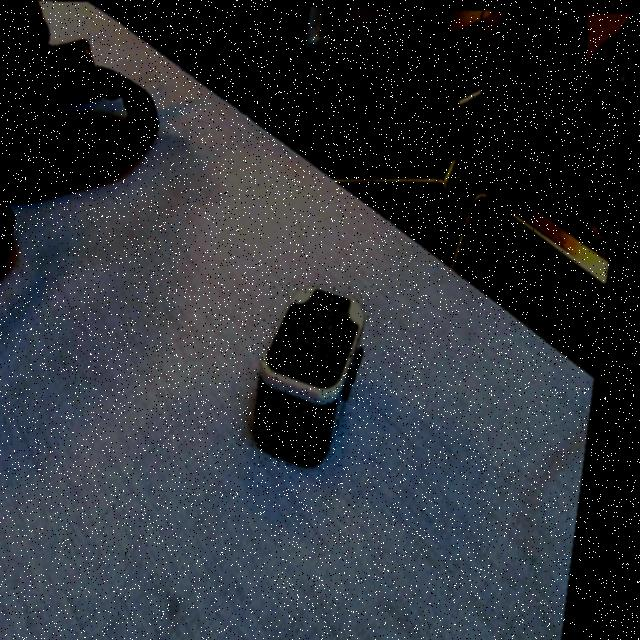adapter: (257, 280, 380, 466)
